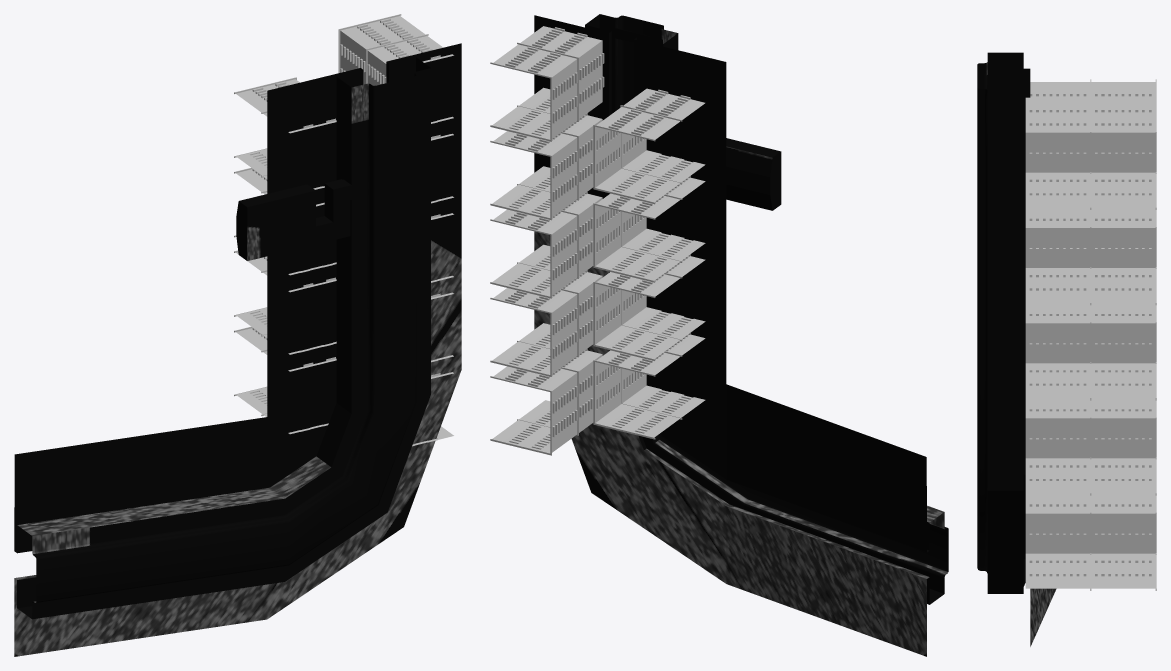
File: area.dae
The picture shows the model from 3 angles, left to right: view 1: azimuth 30°, elevation 25°; view 2: azimuth 150°, elevation 25°; view 3: azimuth 270°, elevation 25°; orthographic projection. The views are drawn at different scales.
Visible parts, largest first — view 1: Plane, Cube.004; view 2: Plane, Cube.004; view 3: Cube.004, Plane.
Boxes of the visible parts, x1,y1,x2,y2 form: Plane: (14, 43, 461, 656); Cube.004: (234, 14, 453, 446); Plane: (534, 14, 948, 656); Cube.004: (490, 26, 705, 455); Cube.004: (1025, 79, 1156, 590); Plane: (977, 52, 1056, 646).
Size of the model in its own units: 197 by 60.32 by 235.
